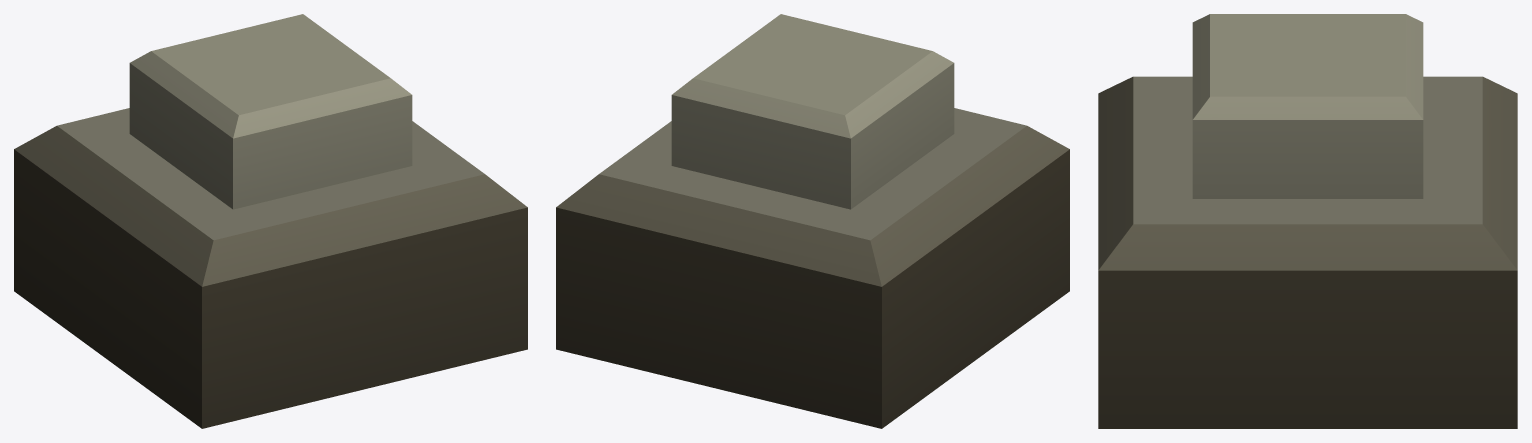
File: radar.glb
3 views of the same model, side by side, from view 1: azimuth 30°, elevation 25°; view 2: azimuth 150°, elevation 25°; view 3: azimuth 270°, elevation 25° (orthographic). The views are drawn at different scales.
Visible parts, largest first — view 1: radar; view 2: radar; view 3: radar.
Part boxes in pixels (x1=…): radar: x1=14, y1=14, x2=527, y2=428; radar: x1=556, y1=14, x2=1069, y2=428; radar: x1=1098, y1=14, x2=1517, y2=428.
Bounding box in the file's own units: 0.24 × 0.18 × 0.24.
